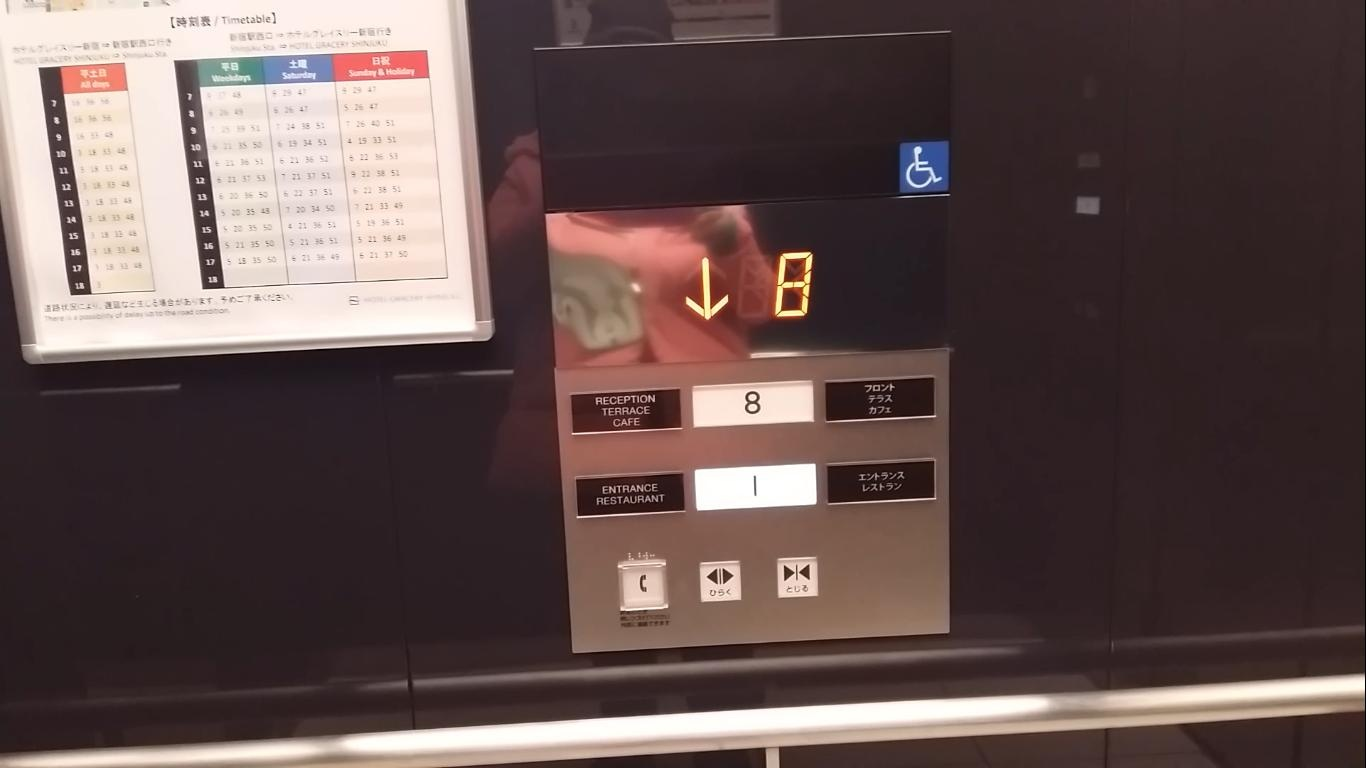1: (690, 462, 819, 513)
8: (689, 380, 817, 428)
CH: (896, 137, 953, 194)
call: (611, 558, 672, 616)
close: (771, 552, 820, 602)
led: (541, 193, 955, 371)
open: (695, 557, 744, 607)
